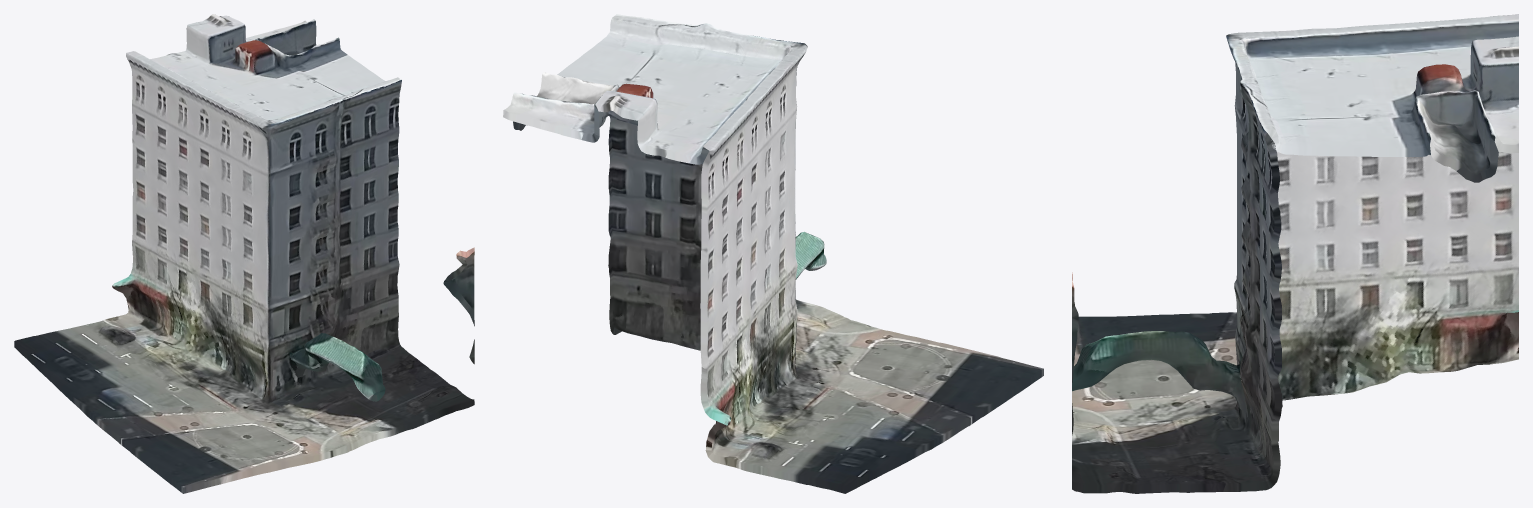
The model's file is z20-167755-405238-h0-yup-uvflip-v3-world.glb.
The picture shows the model from 3 angles, left to right: view 1: azimuth 30°, elevation 25°; view 2: azimuth 150°, elevation 25°; view 3: azimuth 270°, elevation 25°; orthographic projection. The views are drawn at different scales.
Size of the model in its own units: 30.2 by 30.52 by 30.32.
Materials: 1 (1 with a texture image).
